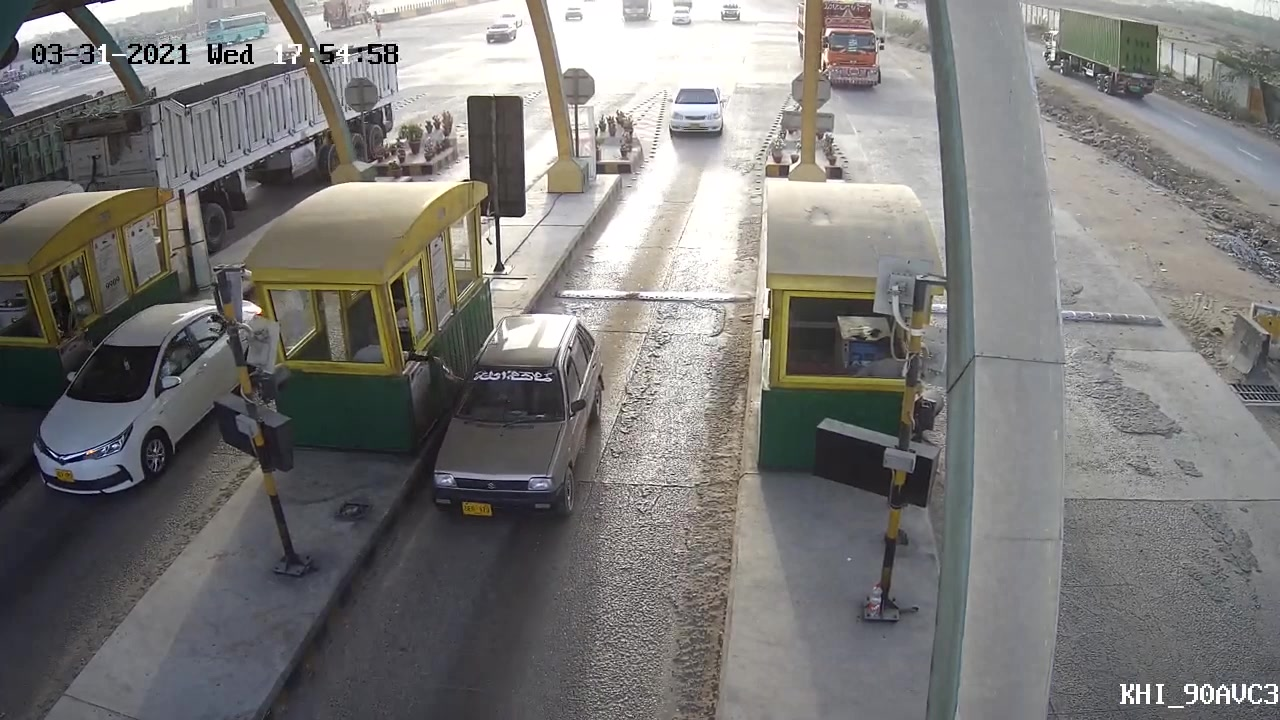F1: (424, 308, 614, 520)
